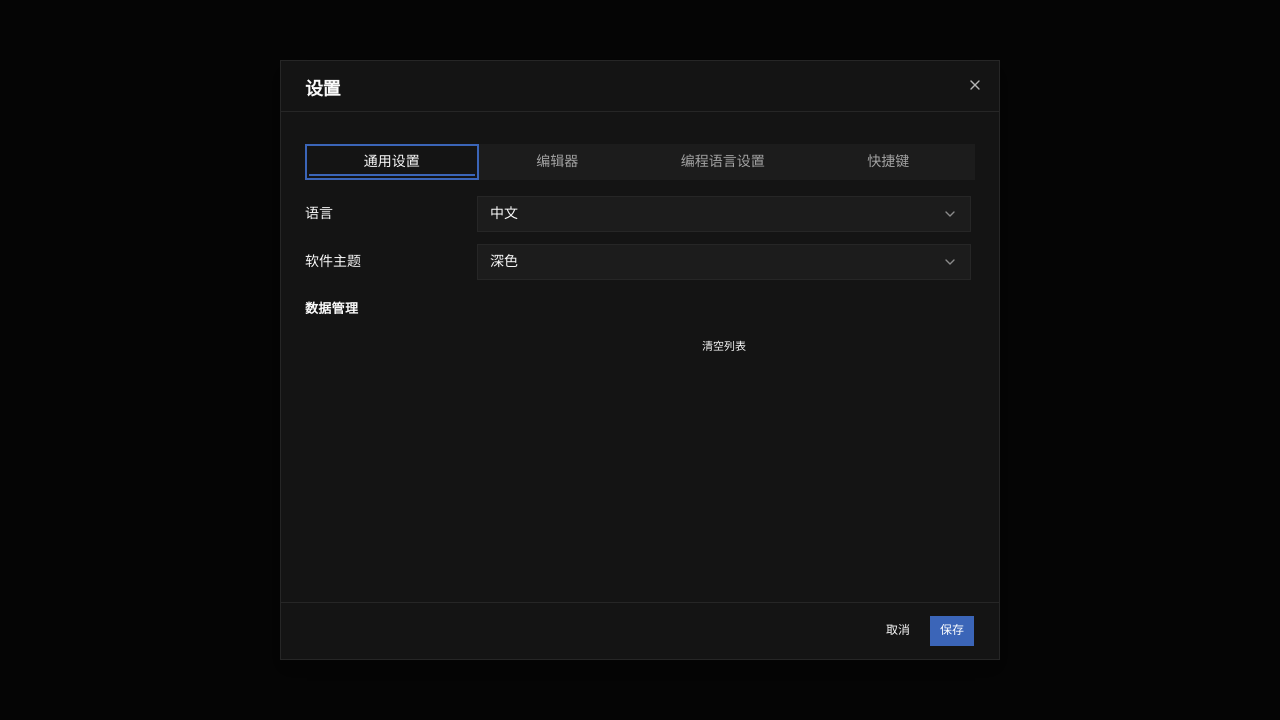
Scenario: SettingsPanel 自定义图片主题 › 切换到 custom 主题时显示导入图片按钮
Note: 点击主题下拉框（用 id 精确定位，避免与其他 combobox 冲突）
Step 1. Click the dropdown with id "set-theme" → (504, 262), box top-left (477, 244), bottom-right (971, 280)
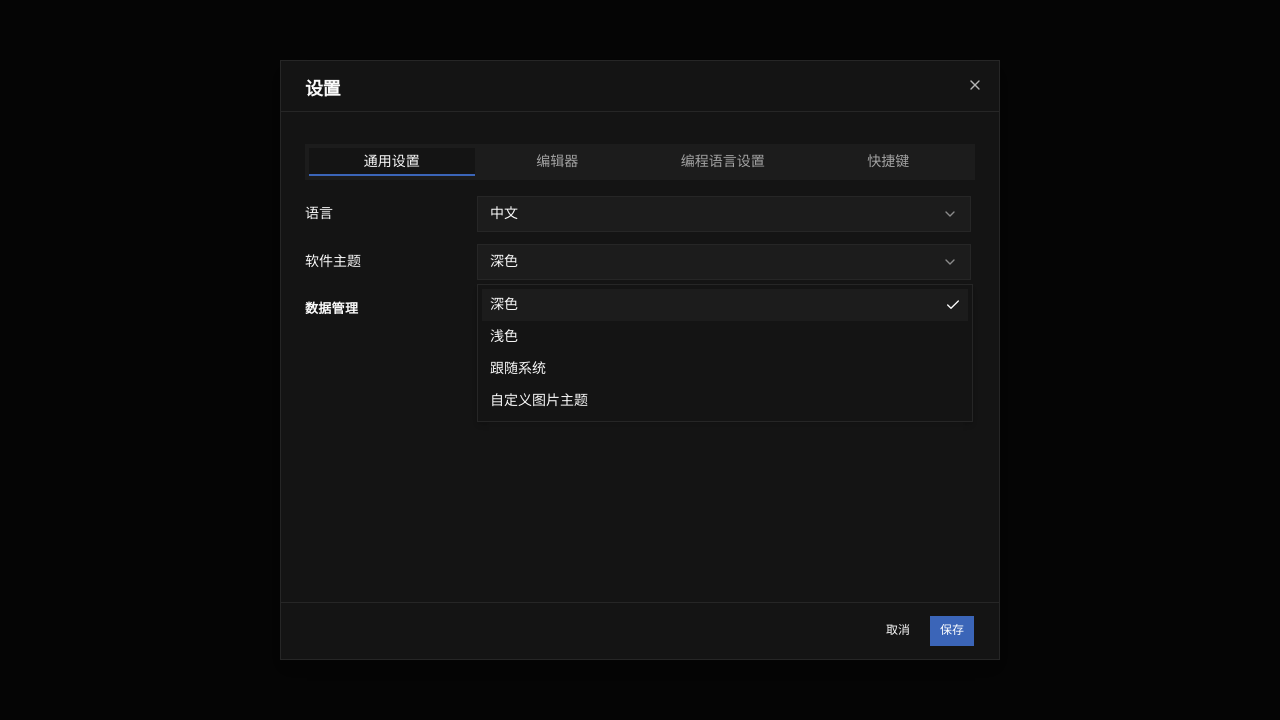
Note: 选择 custom
Step 2. Click the option "自定义图片主题" → (539, 401), box top-left (490, 393), bottom-right (588, 409)
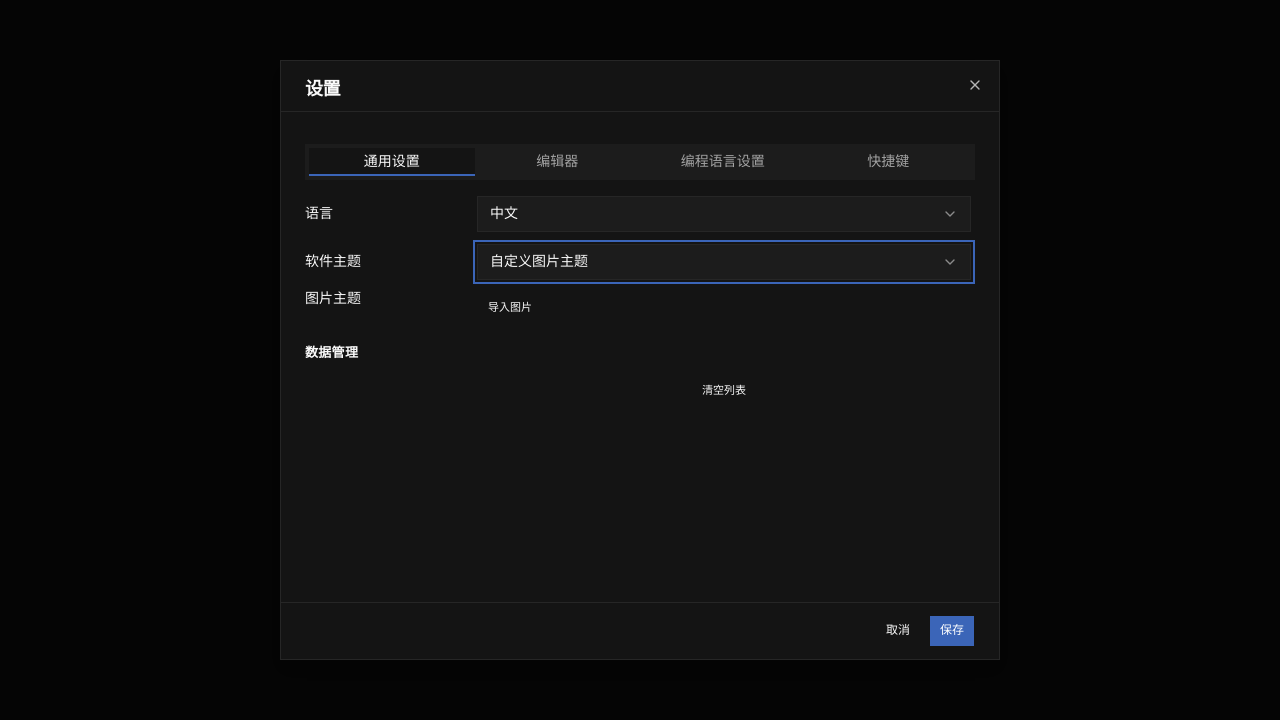
Result: the button "导入图片" is shown at top-left (477, 292), bottom-right (543, 324)
